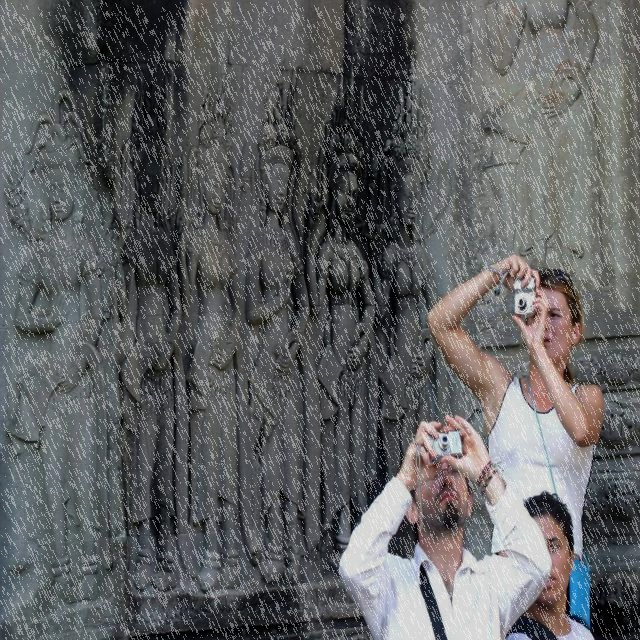pessoa: (6, 114, 456, 612), (423, 260, 606, 640), (331, 410, 554, 639), (478, 0, 624, 281), (504, 490, 596, 640)
